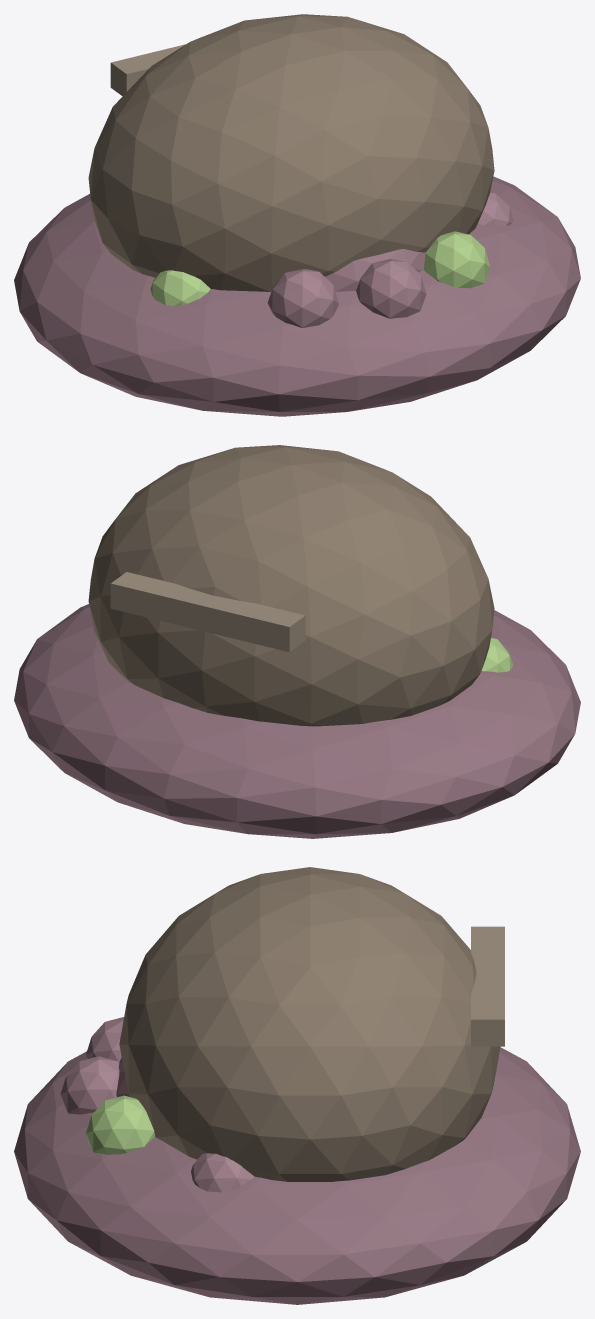
The model's file is zglengo_brood_hive.glb.
The picture shows the model from 3 angles, top to bottom: view 1: azimuth 30°, elevation 25°; view 2: azimuth 150°, elevation 25°; view 3: azimuth 270°, elevation 25°; orthographic projection. The views are drawn at different scales.
Visible parts, largest first — view 1: main_dome, base_hive, egg_sac_2, egg_sac_1, egg_sac_3, egg_sac_0, inner_body, ridge_0, egg_sac_4; view 2: main_dome, base_hive, ridge_0, egg_sac_0; view 3: main_dome, base_hive, ridge_0, egg_sac_3, egg_sac_2, egg_sac_4, egg_sac_1.
Boxes of the visible parts, left/top/right/bottom form: main_dome: left=88, top=14, right=494, bottom=291; base_hive: left=14, top=176, right=580, bottom=416; egg_sac_2: left=356, top=258, right=426, bottom=318; egg_sac_1: left=267, top=269, right=338, bottom=327; egg_sac_3: left=424, top=231, right=490, bottom=288; egg_sac_0: left=150, top=270, right=210, bottom=305; inner_body: left=325, top=249, right=425, bottom=291; ridge_0: left=110, top=44, right=185, bottom=96; egg_sac_4: left=478, top=192, right=513, bottom=226; main_dome: left=88, top=445, right=494, bottom=726; base_hive: left=14, top=604, right=580, bottom=838; ridge_0: left=110, top=572, right=305, bottom=652; egg_sac_0: left=481, top=637, right=513, bottom=672; main_dome: left=119, top=867, right=500, bottom=1181; base_hive: left=14, top=1047, right=580, bottom=1304; ridge_0: left=471, top=926, right=504, bottom=1046; egg_sac_3: left=86, top=1095, right=154, bottom=1154; egg_sac_2: left=60, top=1056, right=119, bottom=1114; egg_sac_4: left=191, top=1153, right=254, bottom=1192; egg_sac_1: left=86, top=1017, right=123, bottom=1062.
Bounding box in the file's own units: 2.92 × 1.76 × 2.68.
